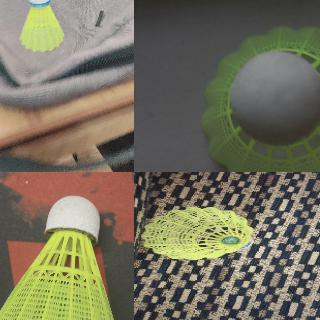shuttlecock: (203, 26, 319, 171), (0, 195, 123, 319), (141, 207, 253, 260), (18, 0, 64, 51)
